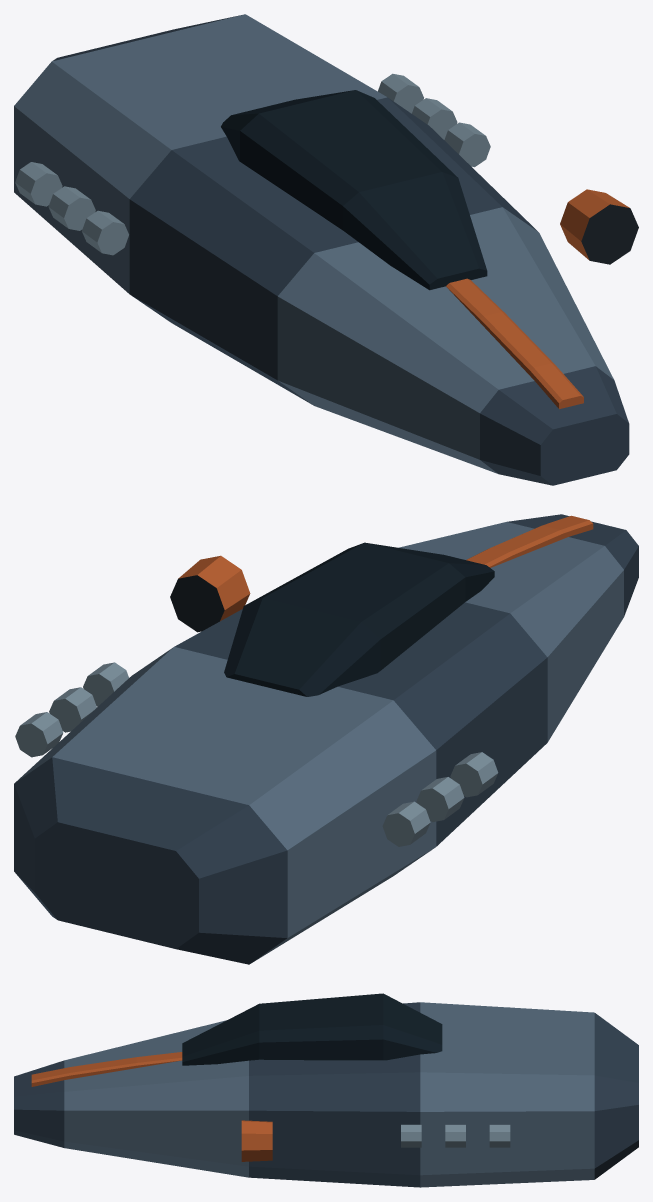
Rendered from FangBodyDamaged.obj.
3 renders of one model, top to bottom at view 1: azimuth 30°, elevation 25°; view 2: azimuth 150°, elevation 25°; view 3: azimuth 270°, elevation 25°, orthographic. The views are drawn at different scales.
Visible parts, largest first — view 1: fuselage, canopy, copper_spine, port_hinge, starboard_cannon_socket, starboard_hinge; view 2: fuselage, canopy, port_hinge, starboard_cannon_socket, starboard_hinge, copper_spine; view 3: fuselage, canopy, copper_spine, starboard_hinge, starboard_cannon_socket.
Part boxes in pixels (<box>): fuselage: <box>14,14,629,485</box>; canopy: <box>221,90,487,290</box>; copper_spine: <box>446,278,583,409</box>; port_hinge: <box>15,162,128,255</box>; starboard_cannon_socket: <box>560,189,638,264</box>; starboard_hinge: <box>378,73,490,167</box>; fuselage: <box>14,514,638,964</box>; canopy: <box>224,542,494,696</box>; port_hinge: <box>382,752,498,846</box>; starboard_cannon_socket: <box>170,555,250,632</box>; starboard_hinge: <box>15,662,128,757</box>; copper_spine: <box>466,515,593,567</box>; fuselage: <box>14,1002,638,1187</box>; canopy: <box>182,993,442,1065</box>; copper_spine: <box>31,1052,182,1086</box>; starboard_hinge: <box>401,1124,510,1147</box>; starboard_cannon_socket: <box>241,1120,272,1161</box>.
Size of the model in its own units: 2.19 by 1.07 by 4.23.
